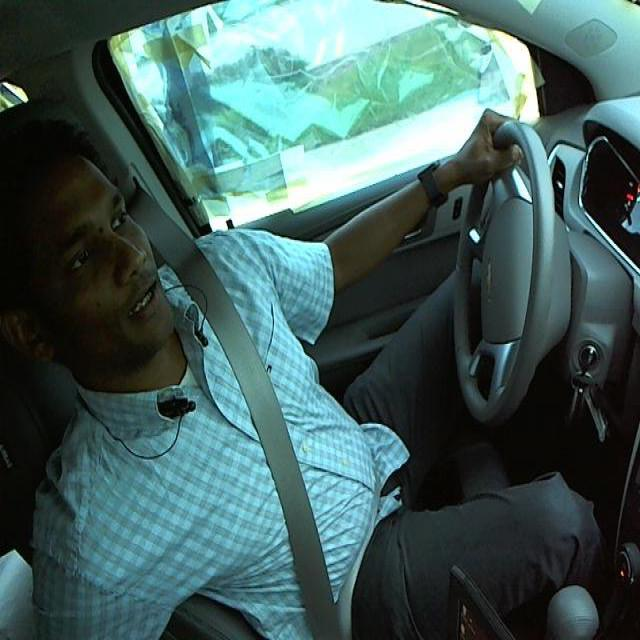seatbelt: (205, 315, 367, 624)
